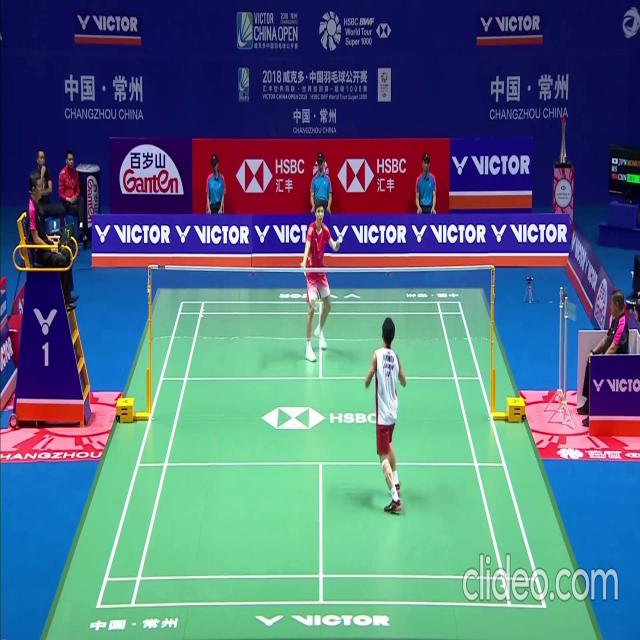Shuttlecock: (332, 241, 336, 248)
